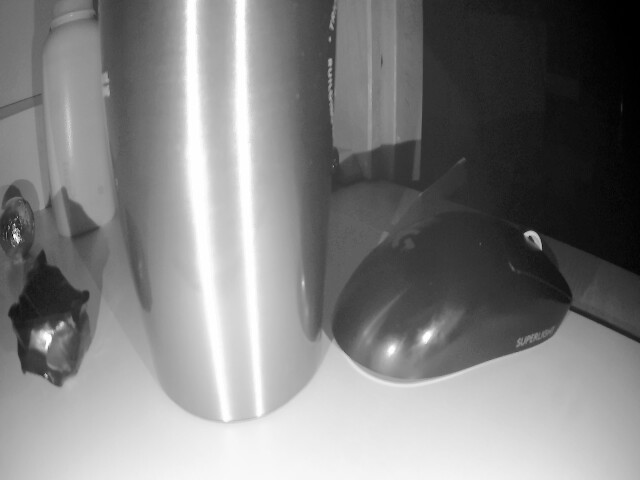black: (0, 197, 34, 265)
silver: (12, 262, 97, 379)
